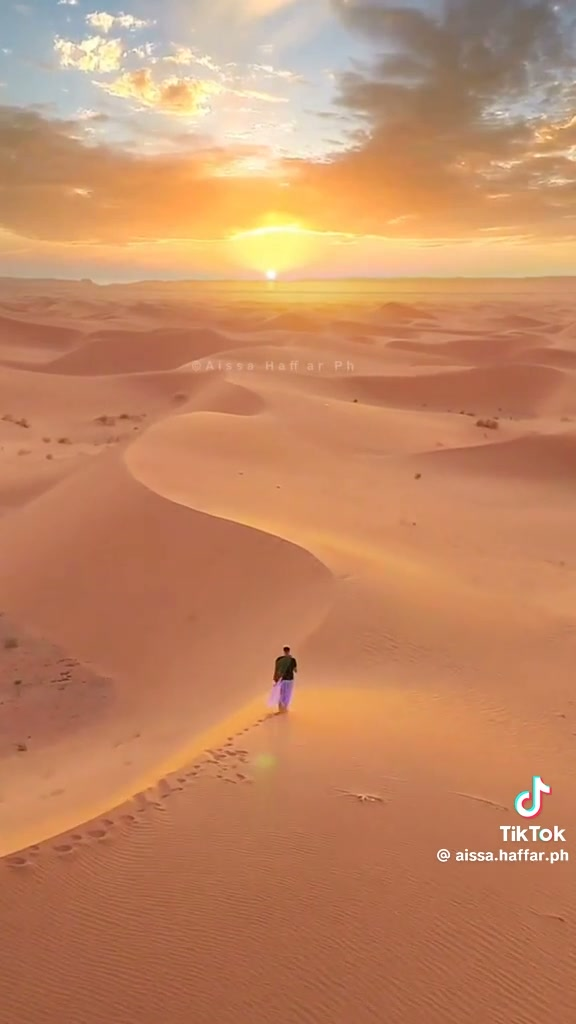human_footprint: (4, 717, 265, 867)
